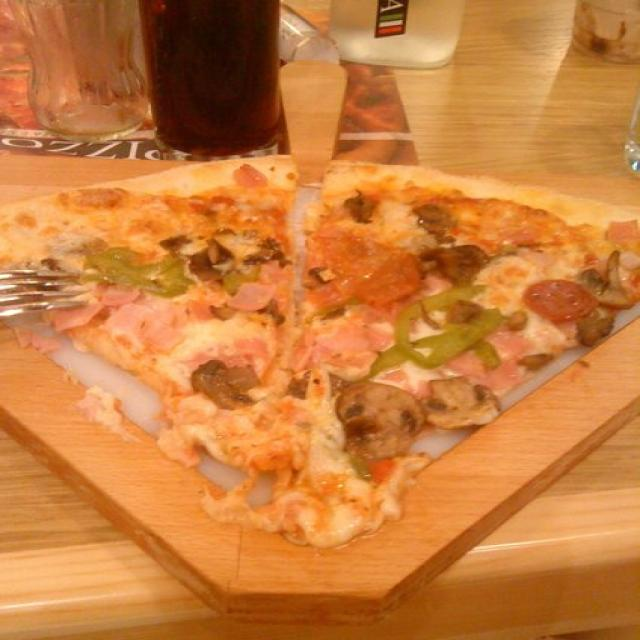Green Pepper: (395, 282, 502, 370), (104, 252, 188, 300), (351, 456, 370, 482)
Ham: (109, 307, 188, 349), (309, 323, 386, 365), (235, 282, 272, 314), (235, 166, 262, 186)
Mushrooms: (338, 386, 421, 455), (427, 379, 499, 423), (585, 254, 636, 308), (200, 361, 255, 404), (576, 319, 610, 341)
Pepperoni: (526, 278, 595, 316)
Pizza: (0, 156, 640, 542)
